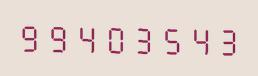five: (157, 20, 184, 56)
four: (185, 20, 212, 57), (73, 19, 100, 55)
nine: (45, 18, 72, 55), (17, 18, 44, 54)
three: (129, 20, 156, 56), (213, 21, 240, 57)
zero: (101, 19, 128, 55)
